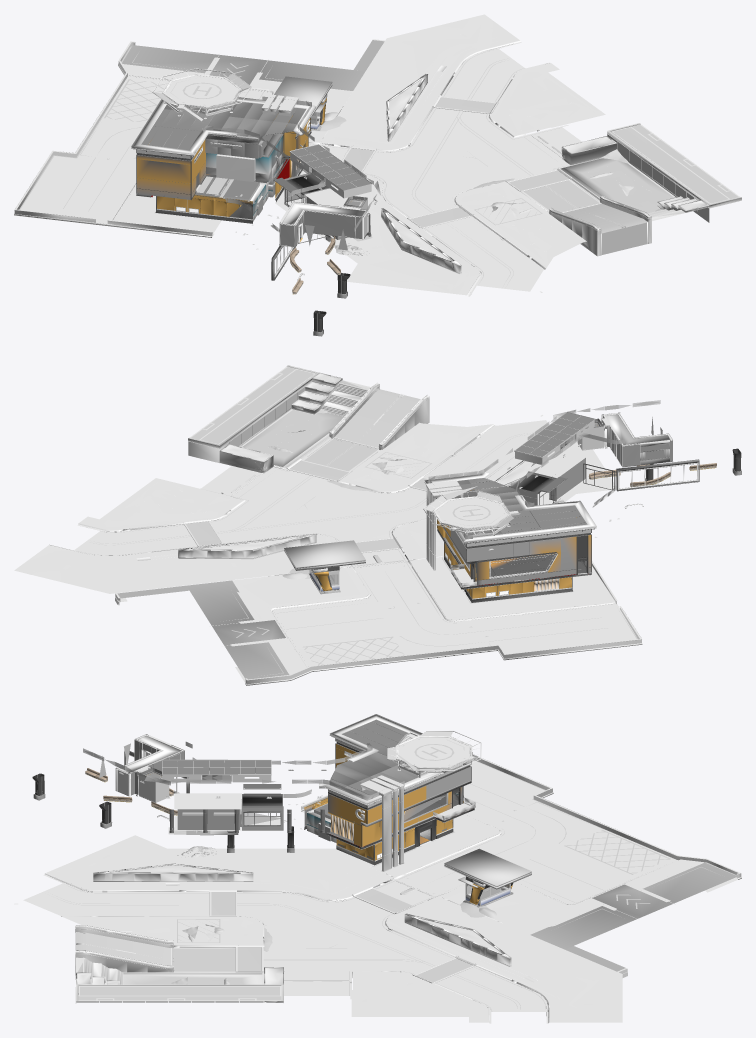
The model's file is cell_82_55.fbx.
The picture shows the model from 3 angles, top to bottom: view 1: azimuth 30°, elevation 25°; view 2: azimuth 150°, elevation 25°; view 3: azimuth 270°, elevation 25°; orthographic projection. The views are drawn at different scales.
Parts seen in each view (by area): view 1: SM_I_RoadFacility_Ground_H_12.mo, SM_H_Building_FutureTech_Dock_01.mo, SM_H_Building_FutureTech_Dock_06.mo, SM_I_RoadFacility_Ground_H_22.mo, SM_H_Building_FutureTech_Dock_06_InterWall.mo, SM_I_RoadFacility_Ground_H_21.mo, SM_H_Building_FutureTech_Dock_06a_InterWall_01a.mo, SM_I_RoadFacility_Ground_H_11E.mo, SM_H_Building_FutureTech_Dock_06e.mo, SM_H_Building_FutureTech_Dock_01_decal.mo, SM_H_Building_FutureTech_Dock_06a_02.mo, SM_I_RoadFacility_Ground_H_05.mo.001 (+12 smaller); view 2: SM_I_RoadFacility_Ground_H_12.mo, SM_H_Building_FutureTech_Dock_01.mo, SM_I_RoadFacility_Ground_H_22.mo, SM_H_Building_FutureTech_Dock_06.mo, SM_H_Building_FutureTech_Dock_01_decal.mo, SM_I_RoadFacility_Ground_H_21.mo, SM_H_Building_FutureTech_Dock_06a_InterWall_01a.mo, SM_H_Building_FutureTech_SentryBox_02a.mo, SM_H_Building_FutureTech_Dock_06e.mo, SM_H_Building_FutureTech_Dock_06a_02.mo, SM_I_RoadFacility_Ground_H_11E.mo, SM_I_RoadFacility_Ground_H_05.mo.002 (+11 smaller); view 3: SM_I_RoadFacility_Ground_H_12.mo, SM_H_Building_FutureTech_Dock_01.mo, SM_H_Building_FutureTech_Dock_06.mo, SM_I_RoadFacility_Ground_H_22.mo, SM_H_Building_FutureTech_Dock_01_decal.mo, SM_I_RoadFacility_Ground_H_11E.mo, SM_I_RoadFacility_Ground_H_21.mo, SM_H_Building_FutureTech_SentryBox_02a.mo, SM_H_Building_FutureTech_Dock_06a_InterWall_01a.mo, SM_H_Building_FutureTech_Dock_06a_InterWall_03.mo, SM_H_Building_FutureTech_Dock_06a_02.mo, SM_H_Building_FutureTech_Dock_06e.mo (+12 smaller).
Part boxes in pixels (x1,y1,x2,y2): SM_I_RoadFacility_Ground_H_12.mo: (275,14,605,296); SM_H_Building_FutureTech_Dock_01.mo: (14,39,384,237); SM_H_Building_FutureTech_Dock_06.mo: (131,97,316,223); SM_I_RoadFacility_Ground_H_22.mo: (523,123,741,222); SM_H_Building_FutureTech_Dock_06_InterWall.mo: (163,114,283,221); SM_I_RoadFacility_Ground_H_21.mo: (549,195,651,256); SM_H_Building_FutureTech_Dock_06a_InterWall_01a.mo: (278,196,368,247); SM_I_RoadFacility_Ground_H_11E.mo: (300,34,601,296); SM_H_Building_FutureTech_Dock_06e.mo: (152,68,251,123); SM_H_Building_FutureTech_Dock_01_decal.mo: (14,46,352,222); SM_H_Building_FutureTech_Dock_06a_02.mo: (289,144,372,198); SM_I_RoadFacility_Ground_H_05.mo.001: (380,208,461,274); SM_I_RoadFacility_Ground_H_12.mo: (14,415,616,593); SM_H_Building_FutureTech_Dock_01.mo: (115,556,642,685); SM_I_RoadFacility_Ground_H_22.mo: (188,365,378,473); SM_H_Building_FutureTech_Dock_06.mo: (424,472,596,602); SM_H_Building_FutureTech_Dock_01_decal.mo: (223,557,641,676); SM_I_RoadFacility_Ground_H_21.mo: (329,382,429,449); SM_H_Building_FutureTech_Dock_06a_InterWall_01a.mo: (577,412,673,467); SM_H_Building_FutureTech_SentryBox_02a.mo: (284,540,365,594); SM_H_Building_FutureTech_Dock_06e.mo: (423,491,520,538); SM_H_Building_FutureTech_Dock_06a_02.mo: (514,412,595,464); SM_I_RoadFacility_Ground_H_11E.mo: (40,420,580,567); SM_I_RoadFacility_Ground_H_05.mo.002: (178,534,316,559); SM_I_RoadFacility_Ground_H_12.mo: (14,835,622,1023); SM_H_Building_FutureTech_Dock_01.mo: (301,755,741,977); SM_H_Building_FutureTech_Dock_06.mo: (304,714,477,865); SM_I_RoadFacility_Ground_H_22.mo: (75,948,283,1003); SM_H_Building_FutureTech_Dock_01_decal.mo: (371,754,735,934); SM_I_RoadFacility_Ground_H_11E.mo: (24,867,568,1022); SM_I_RoadFacility_Ground_H_21.mo: (75,925,173,979); SM_H_Building_FutureTech_SentryBox_02a.mo: (444,848,531,907); SM_H_Building_FutureTech_Dock_06a_InterWall_01a.mo: (115,734,185,802); SM_H_Building_FutureTech_Dock_06a_InterWall_03.mo: (174,793,241,834); SM_H_Building_FutureTech_Dock_06a_02.mo: (162,759,271,782); SM_H_Building_FutureTech_Dock_06e.mo: (387,730,481,777).
Size of the model in its own units: 121 by 20.5 by 134.
